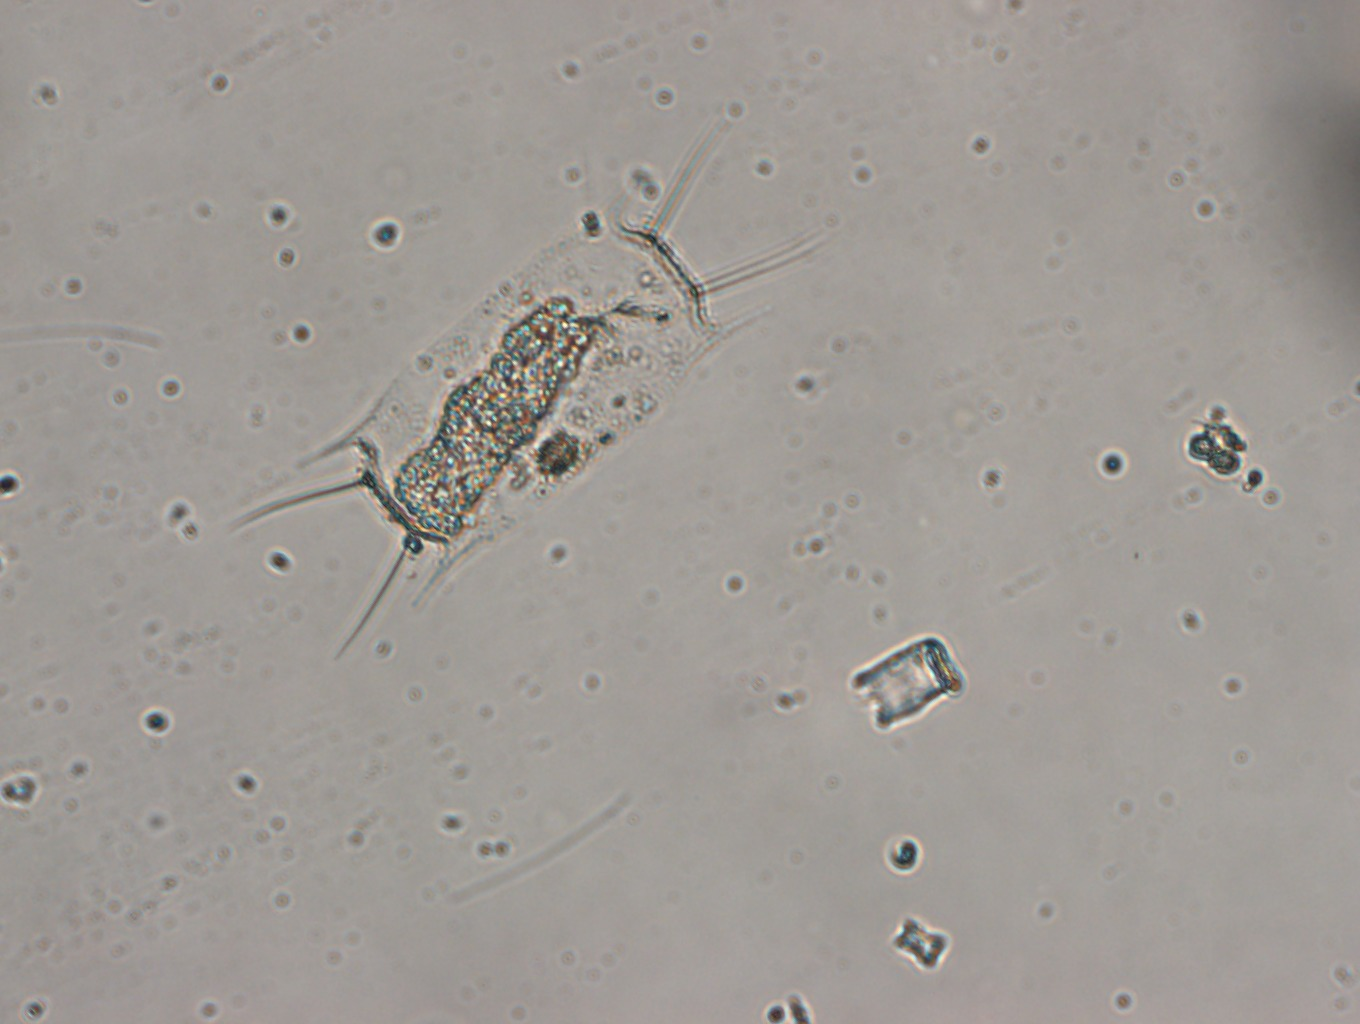biddulphia: (237, 108, 800, 665)
